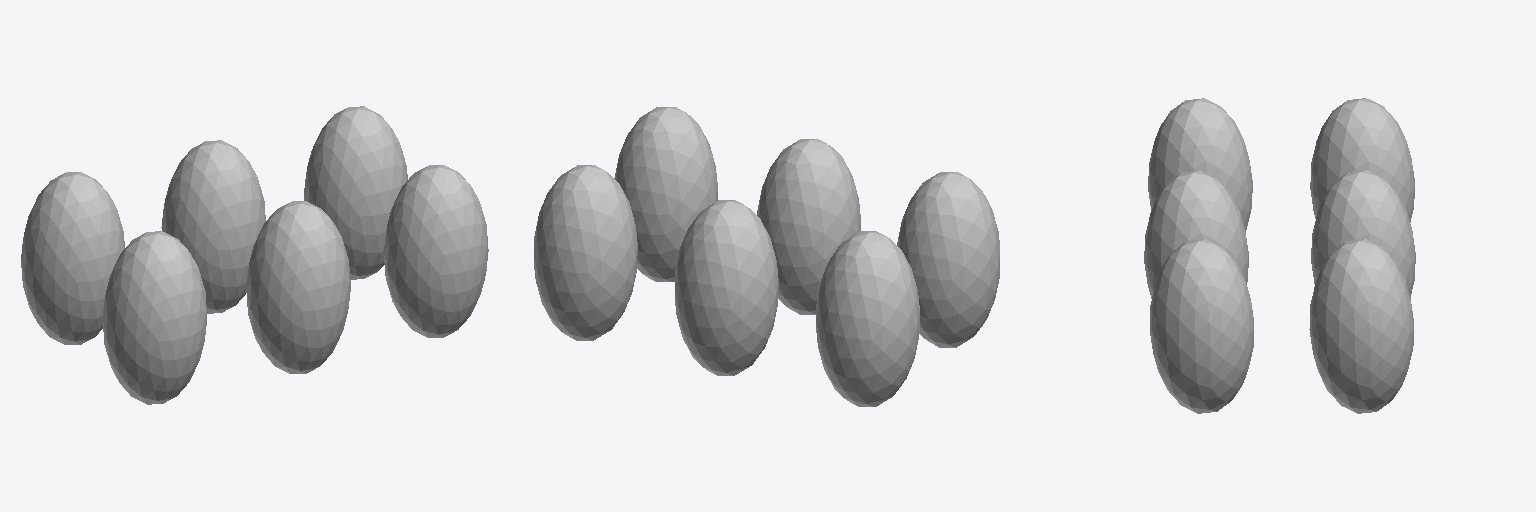
The model's file is oeufs.obj.
3 views of the same model, side by side, from view 1: azimuth 30°, elevation 25°; view 2: azimuth 150°, elevation 25°; view 3: azimuth 270°, elevation 25° (orthographic).
Visible parts, largest first — view 1: ungrouped; view 2: ungrouped; view 3: ungrouped.
Boxes of the visible parts, box(x1,y1,x2,y2) form: ungrouped: box(21, 106, 488, 404); ungrouped: box(534, 107, 999, 406); ungrouped: box(1144, 98, 1415, 413).
Size of the model in its own units: 21.14 by 9.43 by 13.36.